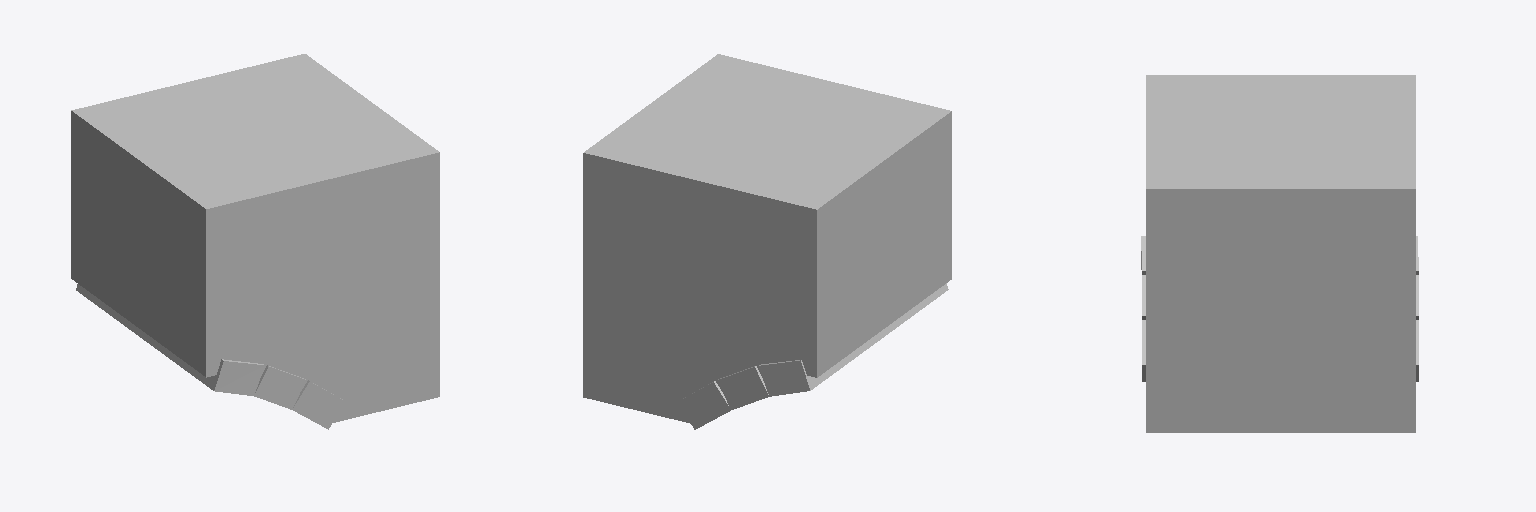
The model's file is lapis_triple_arch_top.obj.
3 views of the same model, side by side, from view 1: azimuth 30°, elevation 25°; view 2: azimuth 150°, elevation 25°; view 3: azimuth 270°, elevation 25° (orthographic).
Visible parts, largest first — view 1: Lapis_Triple_Arch__Top; view 2: Lapis_Triple_Arch__Top; view 3: Lapis_Triple_Arch__Top.
Part boxes in pixels (bbox=[...]): Lapis_Triple_Arch__Top: bbox=[71, 54, 439, 429]; Lapis_Triple_Arch__Top: bbox=[583, 54, 951, 429]; Lapis_Triple_Arch__Top: bbox=[1141, 75, 1418, 432].
Size of the model in its own units: 1 by 1.02 by 1.03.